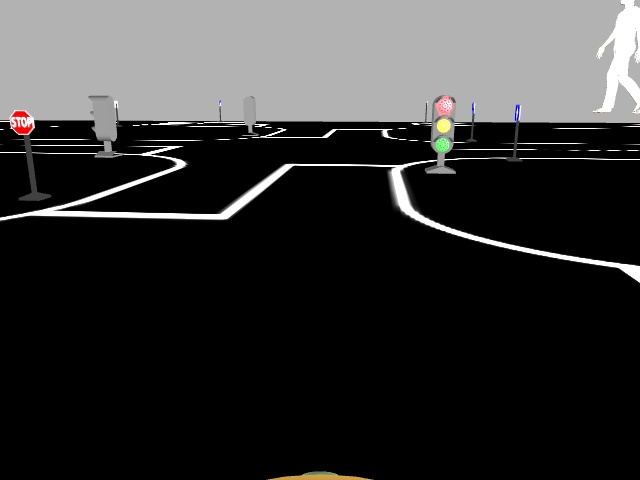Stop: (9, 106, 34, 136)
TrafficLight: (429, 92, 457, 152)
